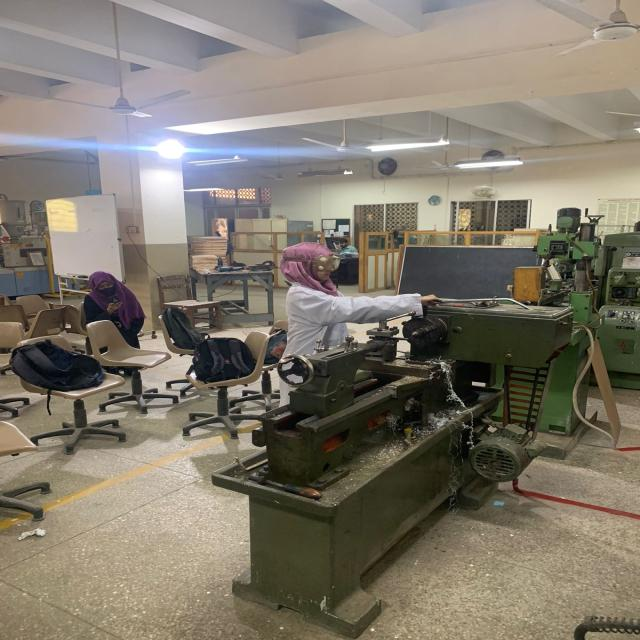googles: (316, 253, 342, 273)
labcoat: (278, 282, 424, 408)
